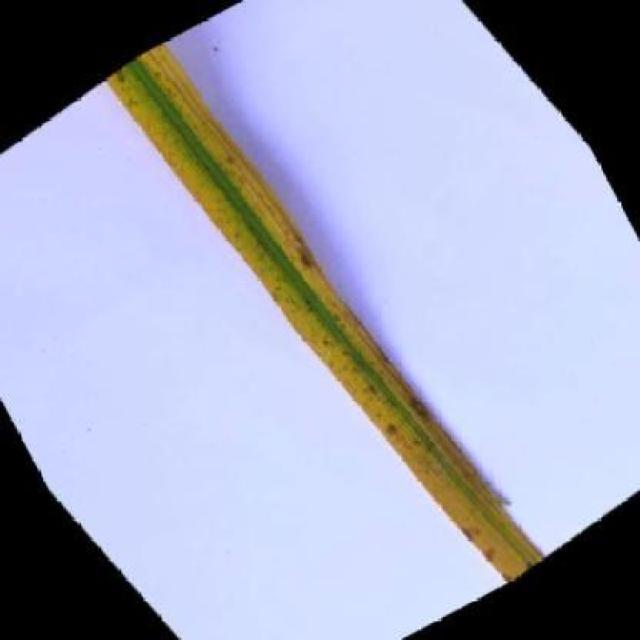Rice False Smut: (103, 0, 546, 637)
